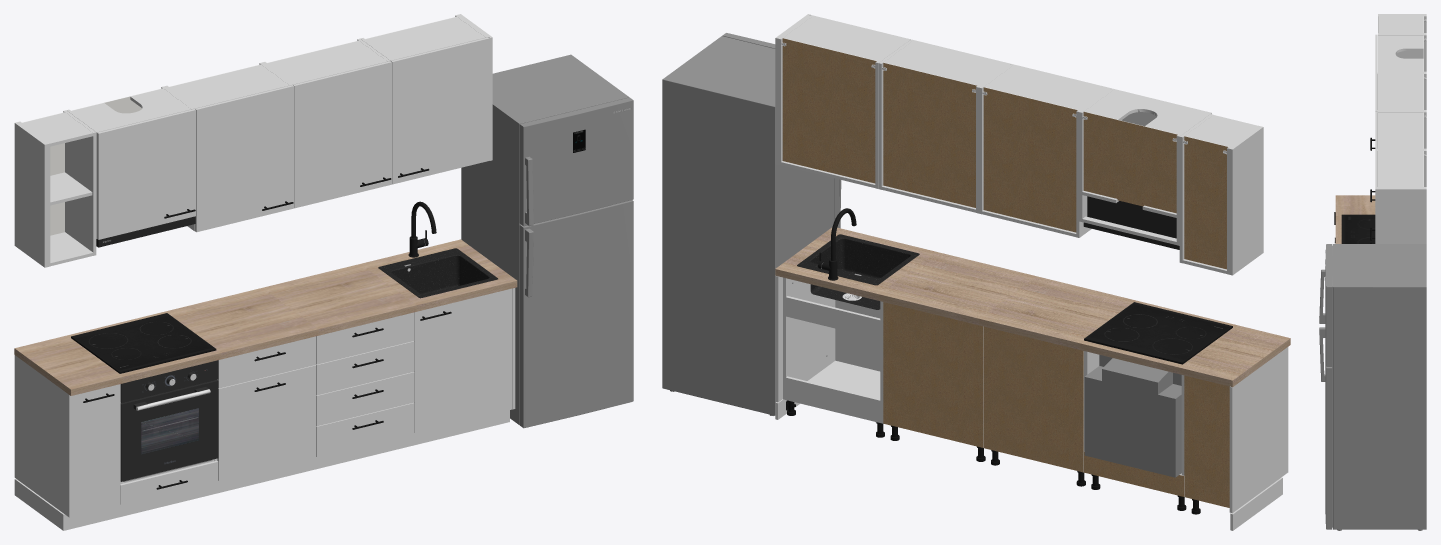
The model's file is kitchen.glb.
The picture shows the model from 3 angles, left to right: view 1: azimuth 30°, elevation 25°; view 2: azimuth 150°, elevation 25°; view 3: azimuth 270°, elevation 25°; orthographic projection. The views are drawn at different scales.
Visible parts, largest first — view 1: kitchen, fridge, ouwen, plita, moyka, vutiazka; view 2: kitchen, fridge, ouwen, plita, moyka, vutiazka; view 3: fridge, kitchen, plita.
Part boxes in pixels (bbox=[...]): kitchen: bbox=[14, 14, 517, 530]; fridge: bbox=[461, 54, 633, 428]; ouwen: bbox=[120, 360, 218, 481]; plita: bbox=[71, 313, 216, 373]; moyka: bbox=[378, 201, 497, 298]; vutiazka: bbox=[96, 216, 195, 247]; kitchen: bbox=[775, 14, 1290, 530]; fridge: bbox=[662, 33, 841, 415]; ouwen: bbox=[1084, 354, 1181, 477]; plita: bbox=[1084, 302, 1232, 364]; moyka: bbox=[797, 208, 919, 309]; vutiazka: bbox=[1083, 196, 1179, 249]; fridge: bbox=[1319, 244, 1426, 530]; kitchen: bbox=[1334, 14, 1426, 243]; plita: bbox=[1341, 214, 1375, 243].
Bounding box in the file's own units: 3.41 × 2.18 × 0.7077.
Materials: 38 (11 with a texture image).
